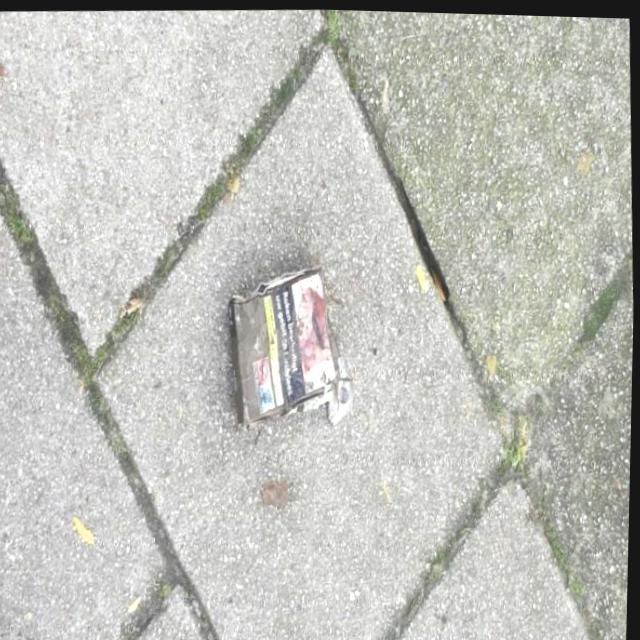Paper: (225, 257, 360, 435)
